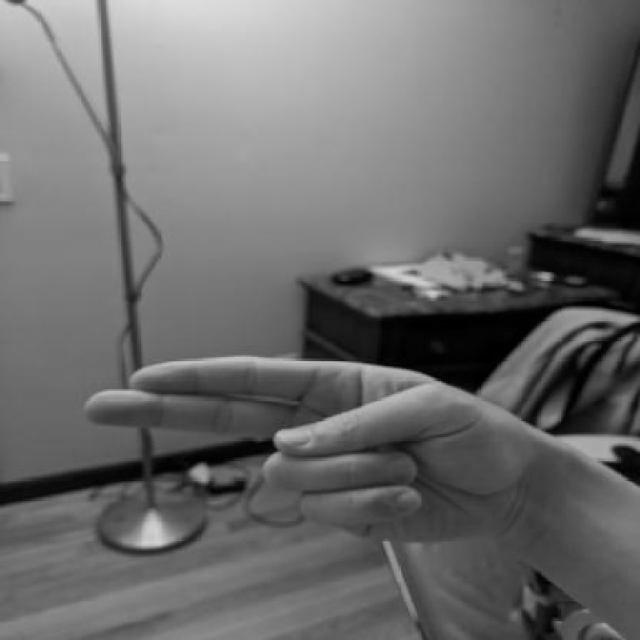H: (77, 348, 531, 547)
